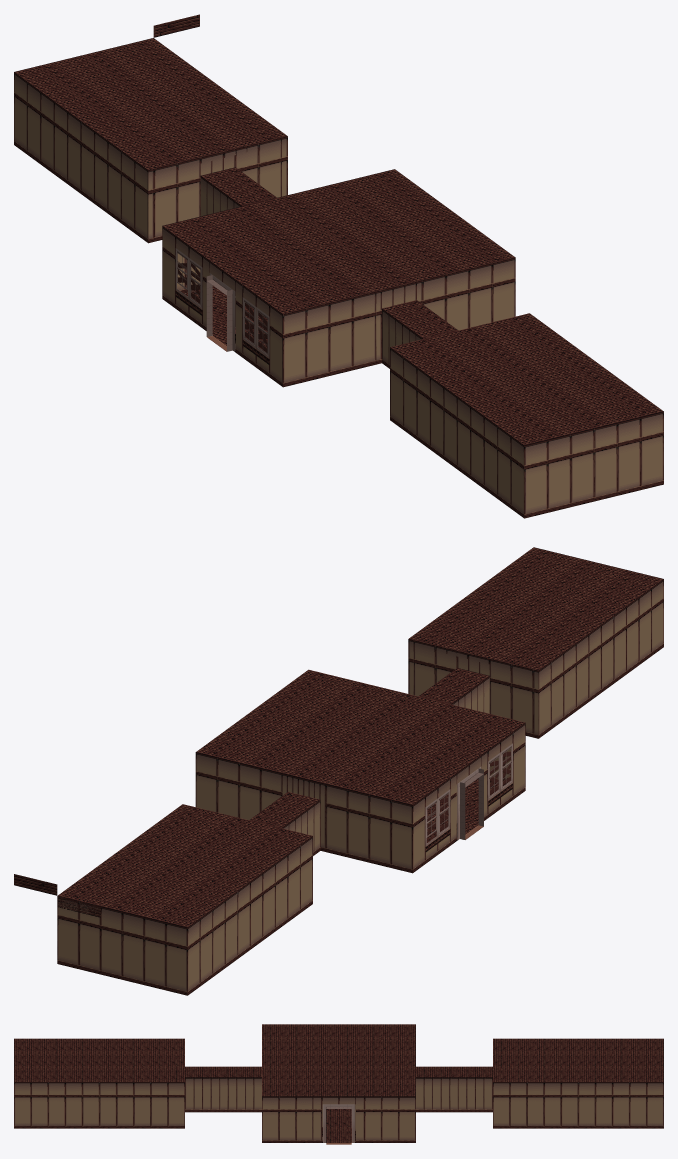
The model's file is House_entrance.obj.
The picture shows the model from 3 angles, top to bottom: view 1: azimuth 30°, elevation 25°; view 2: azimuth 150°, elevation 25°; view 3: azimuth 270°, elevation 25°; orthographic projection. The views are drawn at different scales.
Parts seen in each view (by area): view 1: Default; view 2: Default; view 3: Default.
Part boxes in pixels (left/top/right/bottom): Default: left=14, top=14, right=663, bottom=518; Default: left=14, top=547, right=663, bottom=995; Default: left=14, top=1024, right=663, bottom=1144.
Size of the model in its own units: 6.72 by 2.24 by 24.32.
Materials: 1 (1 with a texture image).
